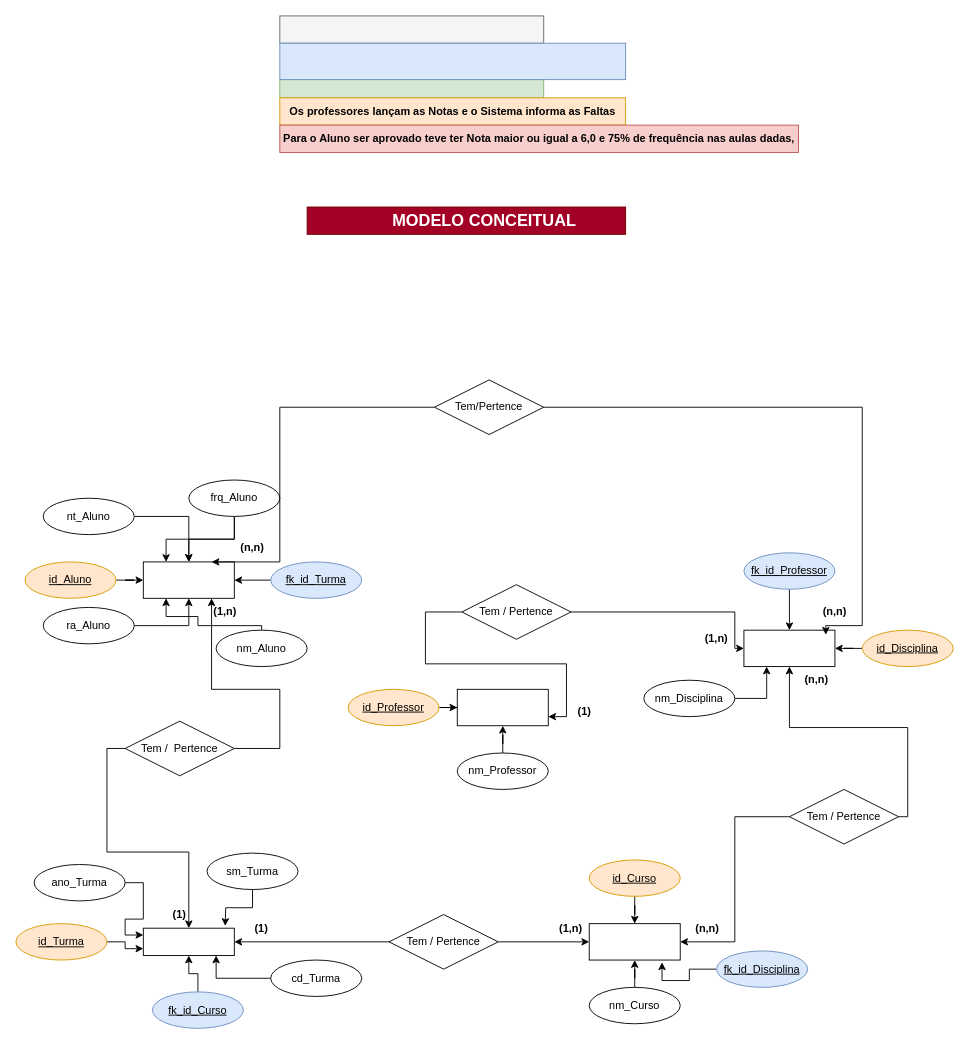
This 969x1045 diagram has some shape labels left out. The shapes that lost their labels are listed below. From the top down, each one's centre as x and y in pixels, then its label:
At point (411, 29): "Os dados dos Alunos que Turmas estuda ou estudou".
At point (452, 61): "Os Alunos têm Disciplinas específicas em cada Ano e Semestre Letivo".
At point (411, 88): "As Turmas pertencem a um determinado Curso.".
At point (188, 579): "Aluno".
At point (789, 648): "Disciplina".
At point (502, 707): "Professor".
At point (188, 941): "Turma".
At point (634, 941): "Curso".
